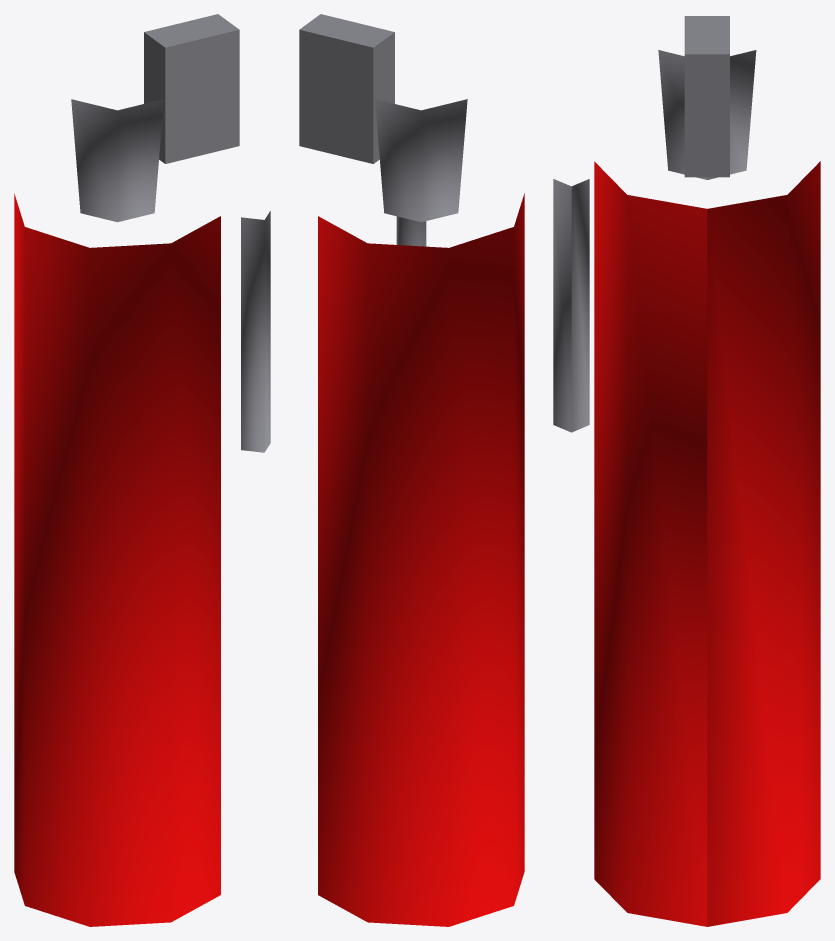
The model's file is fire_extinguisher.glb.
3 views of the same model, side by side, from view 1: azimuth 30°, elevation 25°; view 2: azimuth 150°, elevation 25°; view 3: azimuth 270°, elevation 25° (orthographic). The views are drawn at different scales.
Parts seen in each view (by area): view 1: body, handle, valve, hose; view 2: body, handle, valve, hose; view 3: body, hose, handle, valve.
Part boxes in pixels (<box>): body: <box>14,193,220,926</box>; handle: <box>144,14,239,163</box>; valve: <box>71,99,163,222</box>; hose: <box>241,211,270,452</box>; body: <box>318,193,524,926</box>; handle: <box>299,14,394,163</box>; valve: <box>375,99,467,222</box>; hose: <box>396,216,426,246</box>; body: <box>594,161,820,926</box>; hose: <box>553,179,589,432</box>; handle: <box>684,16,729,177</box>; valve: <box>658,50,756,179</box>.
Bounding box in the file's own units: 0.11 × 0.43 × 0.118.
